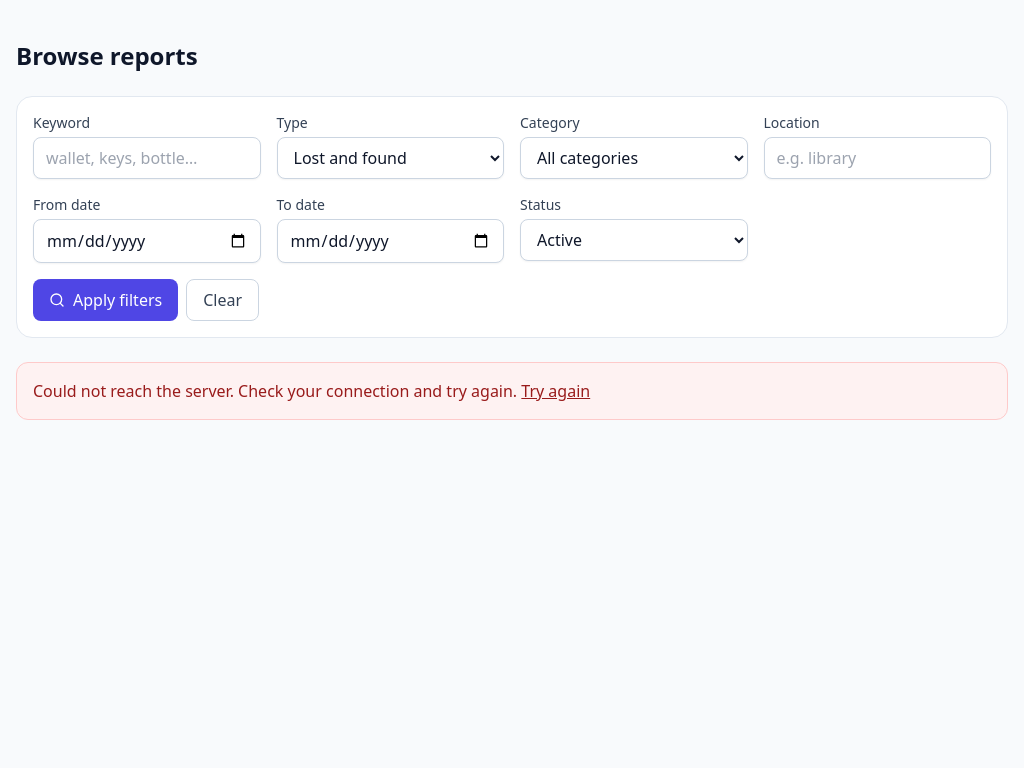
Test: Browse › shows an error and retries
Check: the message shows "Could not reach the server", box [33,380,517,402]
Step 1. Click the button "Try again" → (556, 391), box [521,379,590,403]
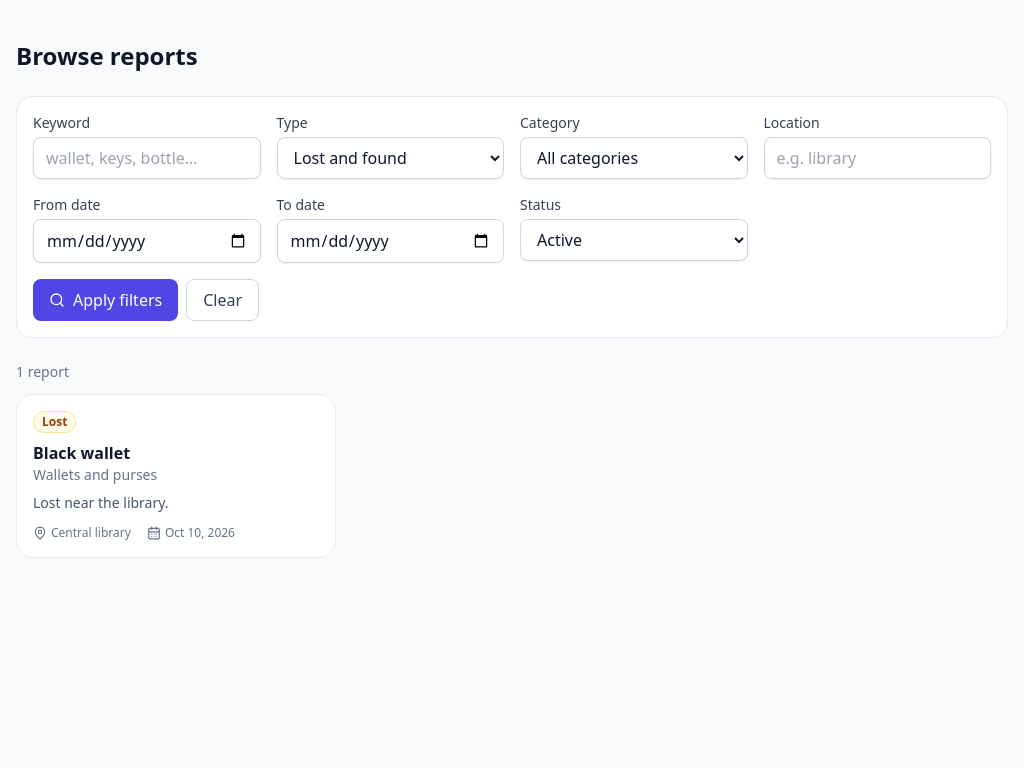
Check: the heading "Black wallet" is shown, box [33,442,130,464]
